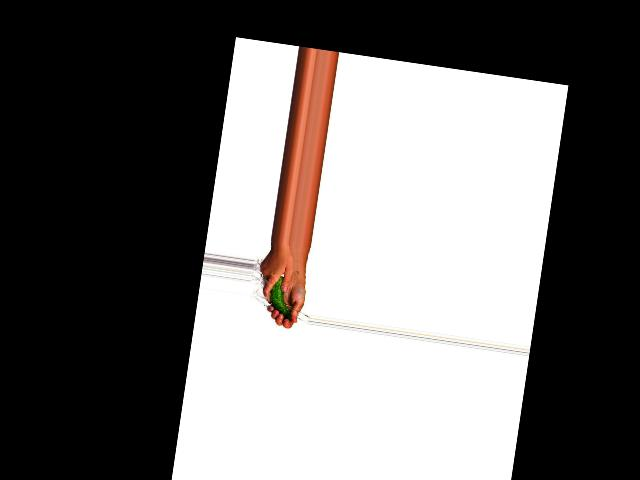cucumber: (266, 274, 297, 320)
